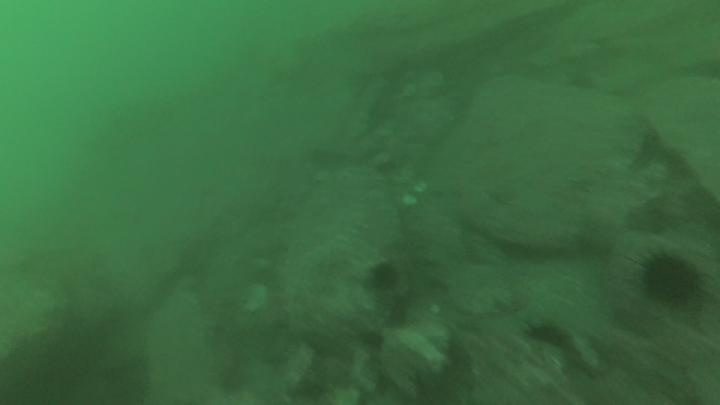echinus: (636, 249, 704, 309), (522, 317, 573, 352), (366, 259, 403, 293)
